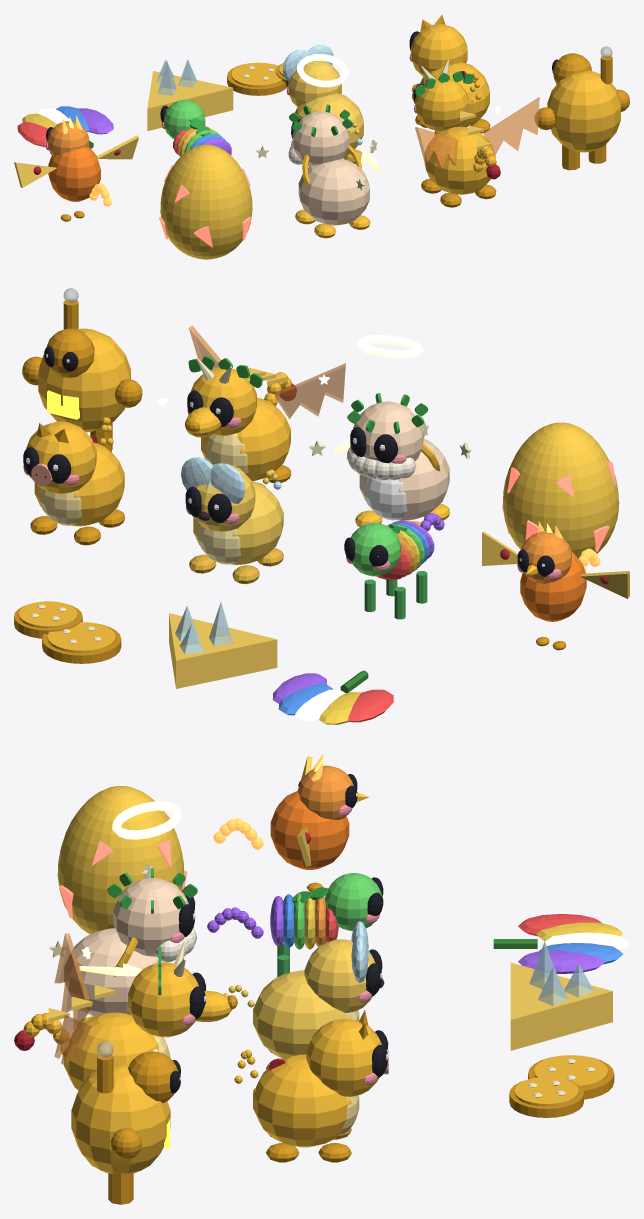
File: PizzaParadise.fbx
3 views of the same model, one above another, from view 1: azimuth 30°, elevation 25°; view 2: azimuth 150°, elevation 25°; view 3: azimuth 270°, elevation 25° (orthographic). The views are drawn at different scales.
Visible parts, largest first — view 1: Egg_FFD24A, Pet_FFE0C0, Pet_FFC438.003, Pet_FFC438.002, Pet_FFC438, Pet_FFD65C, Pet_FFA046_Glass, Top_FFD65C, Pet_D89A20.002, Pet_FF8A2A, Pet_6EDC6E, Pet_FFD65C.001 (+15 smaller); view 2: Egg_FFD24A, Pet_FFC438.003, Pet_FFC438, Pet_FFE0C0, Top_FFD65C, Pet_FFC438.002, Pet_FFD65C, Pet_D89A20.002, Top_FFC438_Metal, Pet_FF8A2A, Pet_FFA046_Glass, Pet_6EDC6E (+27 smaller); view 3: Pet_FFC438, Egg_FFD24A, Pet_FFC438.003, Pet_FFD65C, Pet_FFE0C0, Pet_FFC438.002, Top_FFD65C, Pet_D89A20.002, Pet_FF8A2A, Top_FFC438_Metal, Pet_6EDC6E, Pet_FFA046_Glass (+17 smaller).
Part boxes in pixels (left/top/right/bottom): Egg_FFD24A: left=160, top=144, right=252, bottom=259; Pet_FFE0C0: left=292, top=111, right=369, bottom=225; Pet_FFC438.003: left=412, top=77, right=496, bottom=194; Pet_FFC438.002: left=547, top=70, right=620, bottom=152; Pet_FFC438: left=411, top=24, right=489, bottom=127; Pet_FFD65C: left=288, top=61, right=363, bottom=156; Pet_FFA046_Glass: left=415, top=97, right=539, bottom=169; Top_FFD65C: left=147, top=71, right=233, bottom=130; Pet_D89A20.002: left=535, top=53, right=629, bottom=170; Pet_FF8A2A: left=48, top=147, right=100, bottom=201; Pet_6EDC6E: left=164, top=99, right=221, bottom=152; Pet_FFD65C.001: left=14, top=135, right=138, bottom=187; Egg_FFD24A: left=503, top=422, right=618, bottom=558; Pet_FFC438.003: left=185, top=367, right=291, bottom=481; Pet_FFC438: left=26, top=417, right=124, bottom=526; Pet_FFE0C0: left=353, top=401, right=449, bottom=520; Top_FFD65C: left=169, top=613, right=277, bottom=688; Pet_FFC438.002: left=38, top=328, right=130, bottom=432; Pet_FFD65C: left=192, top=463, right=283, bottom=565; Pet_D89A20.002: left=22, top=299, right=142, bottom=452; Top_FFC438_Metal: left=18, top=601, right=115, bottom=653; Pet_FF8A2A: left=520, top=551, right=586, bottom=621; Pet_FFA046_Glass: left=189, top=325, right=345, bottom=418; Pet_6EDC6E: left=351, top=522, right=424, bottom=576; Pet_FFC438: left=234, top=1018, right=381, bottom=1147; Egg_FFD24A: left=57, top=786, right=184, bottom=934; Pet_FFC438.003: left=23, top=962, right=232, bottom=1090; Pet_FFD65C: left=223, top=939, right=375, bottom=1058; Pet_FFE0C0: left=64, top=878, right=188, bottom=1016; Pet_FFC438.002: left=71, top=1062, right=170, bottom=1173; Top_FFD65C: left=510, top=962, right=612, bottom=1050; Pet_D89A20.002: left=97, top=1051, right=178, bottom=1204; Pet_FF8A2A: left=270, top=791, right=349, bottom=869; Top_FFC438_Metal: left=514, top=1055, right=608, bottom=1106; Pet_6EDC6E: left=294, top=873, right=382, bottom=949; Pet_FFA046_Glass: left=54, top=933, right=91, bottom=1065.
Bounding box in the file's own units: 8.24 × 2.23 × 5.87.
